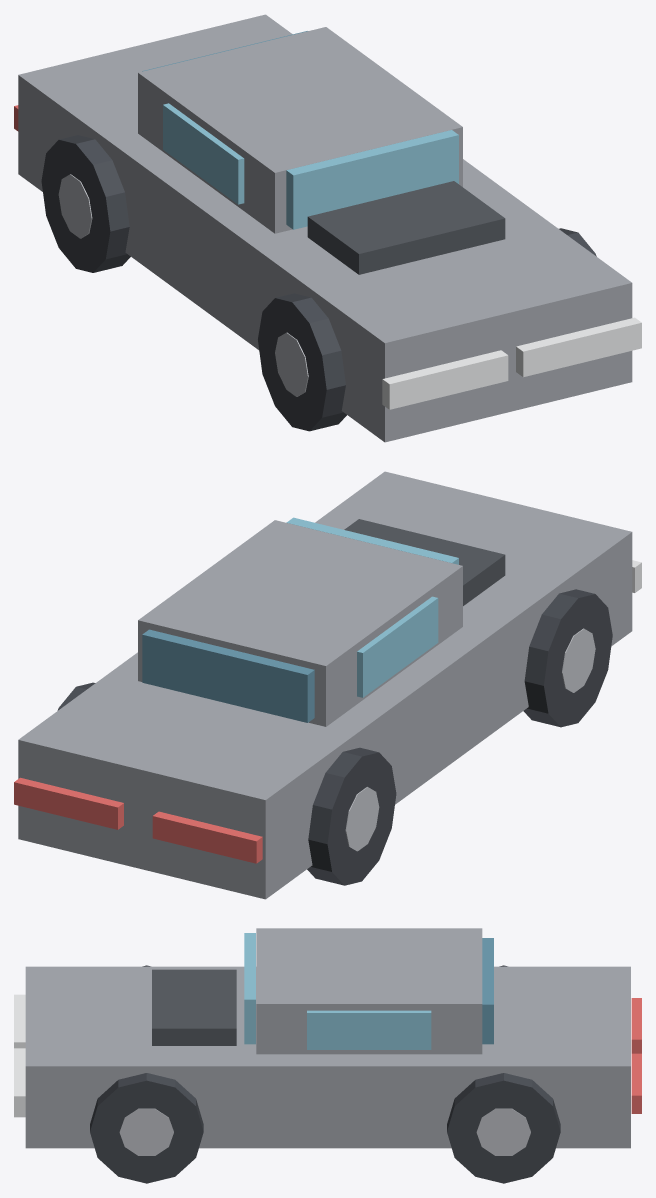
Rendered from traffic_muscle_gray.glb.
The picture shows the model from 3 angles, top to bottom: view 1: azimuth 30°, elevation 25°; view 2: azimuth 150°, elevation 25°; view 3: azimuth 270°, elevation 25°; orthographic projection. The views are drawn at different scales.
Visible parts, largest first — view 1: body_0, roof_1, hood_scoop_18, windshield_2, wheel_RL_10, wheel_FL_6, side_glass_L_4, headlight_L_14, headlight_R_15, rim_RL_11, rim_FL_7; view 2: body_0, roof_1, rear_glass_3, wheel_RL_10, wheel_FL_6, side_glass_L_4, hood_scoop_18, taillight_L_16, taillight_R_17, rim_FL_7, rim_RL_11, windshield_2; view 3: body_0, roof_1, wheel_RR_12, wheel_FR_8, hood_scoop_18, side_glass_R_5, rim_RR_13, rim_FR_9, windshield_2, rear_glass_3, headlight_R_15, taillight_R_17 (+2 smaller).
Boxes of the visible parts, box(x1,y1,x2,y2) form: body_0: box(18, 14, 632, 442); roof_1: box(138, 27, 462, 233); hood_scoop_18: box(307, 181, 505, 274); windshield_2: box(286, 130, 458, 229); wheel_RL_10: box(41, 135, 130, 272); wheel_FL_6: box(258, 293, 346, 431); side_glass_L_4: box(163, 103, 244, 204); headlight_L_14: box(382, 350, 508, 409); headlight_R_15: box(516, 317, 641, 377); rim_RL_11: box(58, 174, 92, 238); rim_FL_7: box(275, 332, 308, 396); body_0: box(18, 471, 632, 899); roof_1: box(138, 520, 462, 726); rear_glass_3: box(142, 629, 314, 722); wheel_RL_10: box(307, 747, 396, 885); wheel_FL_6: box(523, 589, 612, 727); side_glass_L_4: box(357, 596, 438, 697); hood_scoop_18: box(344, 519, 505, 605); taillight_L_16: box(152, 811, 262, 863); taillight_R_17: box(14, 777, 123, 829); rim_FL_7: box(562, 628, 595, 692); rim_RL_11: box(345, 787, 379, 851); windshield_2: box(286, 517, 458, 564); body_0: box(25, 966, 630, 1148); roof_1: box(256, 928, 482, 1054); wheel_RR_12: box(447, 1073, 560, 1183); wheel_FR_8: box(90, 1073, 203, 1183); hood_scoop_18: box(152, 969, 236, 1045); side_glass_R_5: box(307, 1010, 431, 1049); rim_RR_13: box(476, 1108, 530, 1155); rim_FR_9: box(119, 1108, 173, 1155); windshield_2: box(244, 933, 255, 1044); rear_glass_3: box(482, 938, 493, 1044); headlight_R_15: box(14, 1048, 25, 1117); taillight_R_17: box(631, 1053, 641, 1113).
Bounding box in the file's own units: 1.88 × 1.21 × 4.31.
